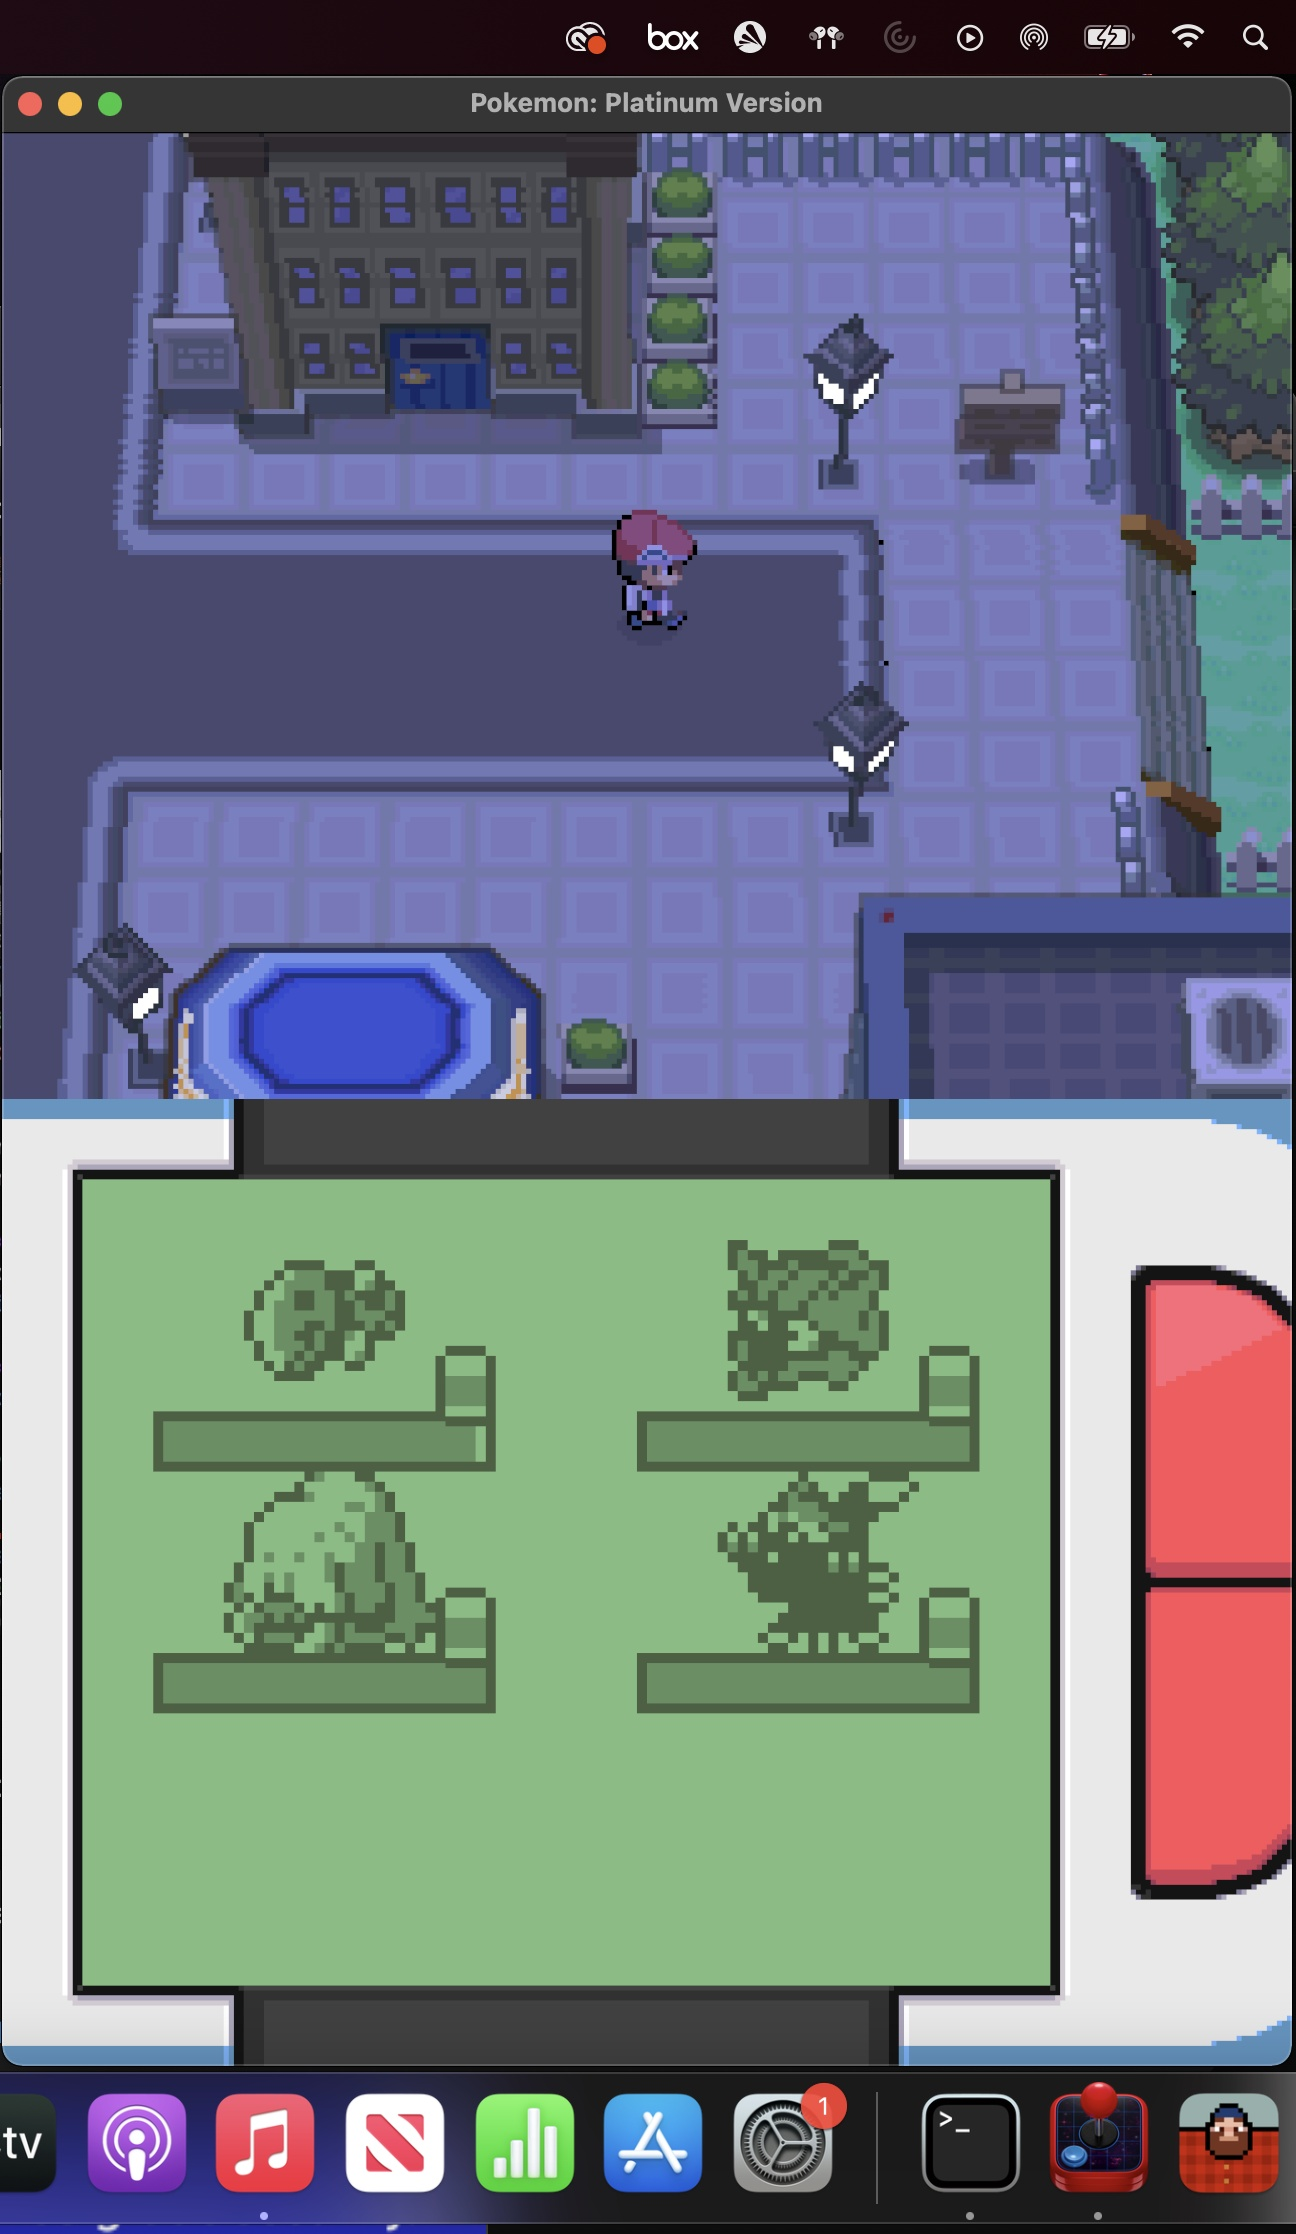player: (600, 501, 706, 638)
turn left: (800, 325, 1071, 496)
